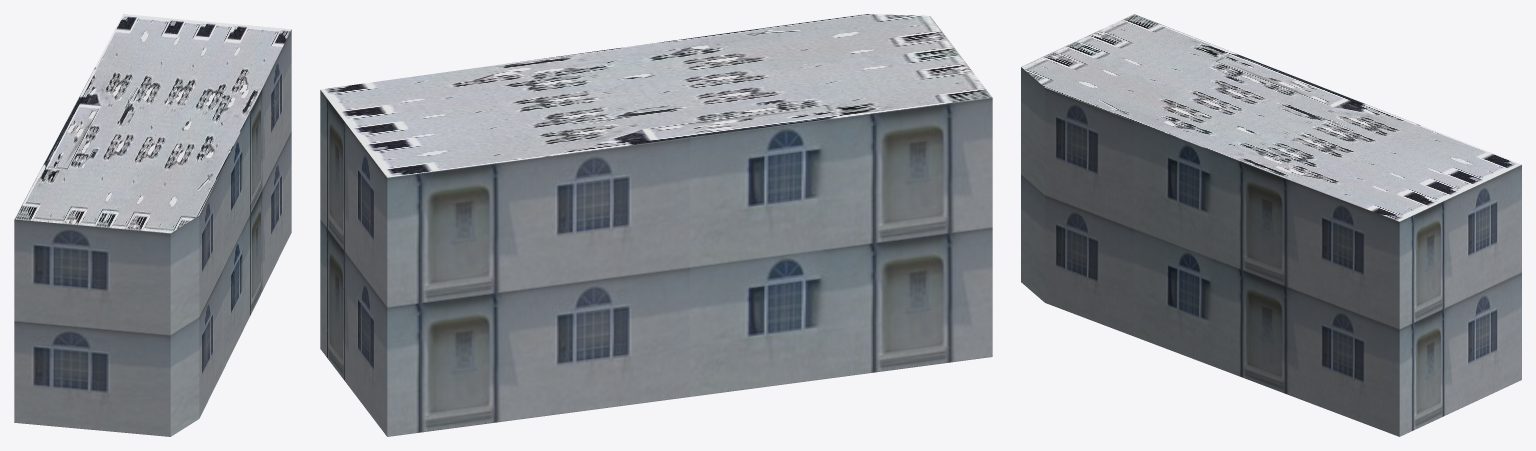
Rendered from ResTex__460.fbx.
The picture shows the model from 3 angles, left to right: view 1: azimuth 30°, elevation 25°; view 2: azimuth 150°, elevation 25°; view 3: azimuth 270°, elevation 25°; orthographic projection. The views are drawn at different scales.
Visible parts, largest first — view 1: CityEngineMaterial_17_m, CityEngineMaterial_4_m; view 2: CityEngineMaterial_17_m, CityEngineMaterial_4_m; view 3: CityEngineMaterial_17_m, CityEngineMaterial_4_m.
Part boxes in pixels (x1,y1,x2,y2): CityEngineMaterial_17_m: [14, 29, 291, 436]; CityEngineMaterial_4_m: [15, 14, 291, 233]; CityEngineMaterial_17_m: [320, 90, 992, 436]; CityEngineMaterial_4_m: [320, 14, 992, 177]; CityEngineMaterial_17_m: [1021, 67, 1521, 436]; CityEngineMaterial_4_m: [1021, 14, 1521, 221].
Size of the model in its own units: 12.42 by 6 by 12.65.
2 materials, 2 textured.
